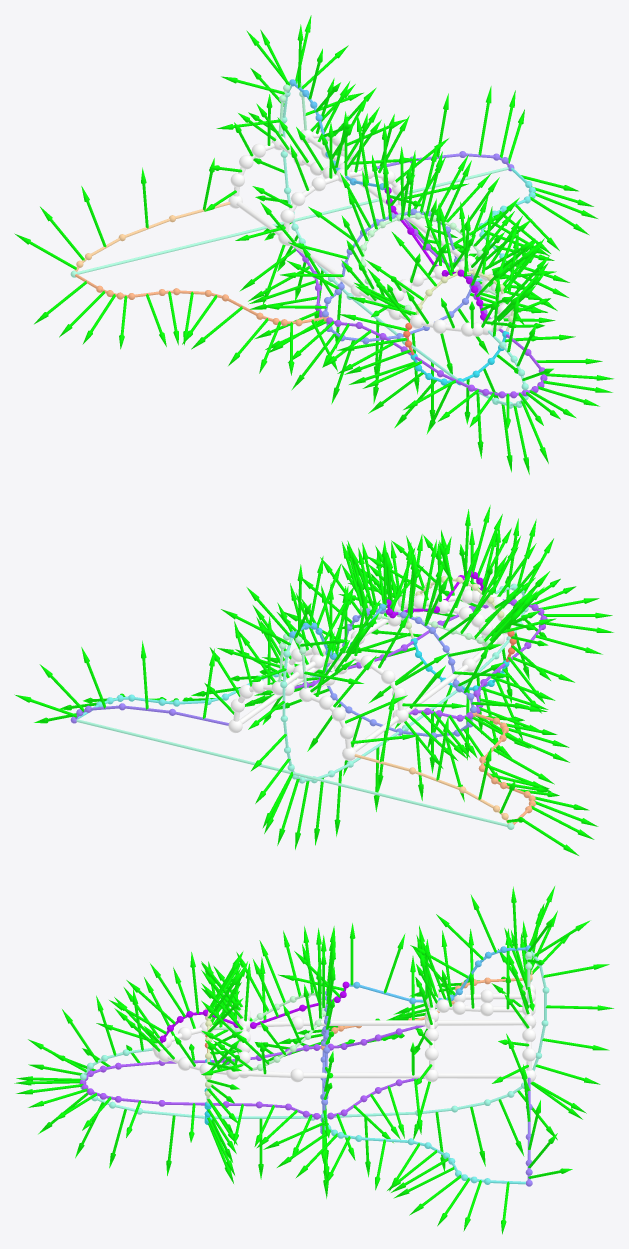
File: t2f_fighter.gltf
The picture shows the model from 3 angles, top to bottom: view 1: azimuth 30°, elevation 25°; view 2: azimuth 150°, elevation 25°; view 3: azimuth 270°, elevation 25°; orthographic projection. The views are drawn at different scales.
Bounding box in the file's own units: 0.8703 × 0.4672 × 0.8645.
